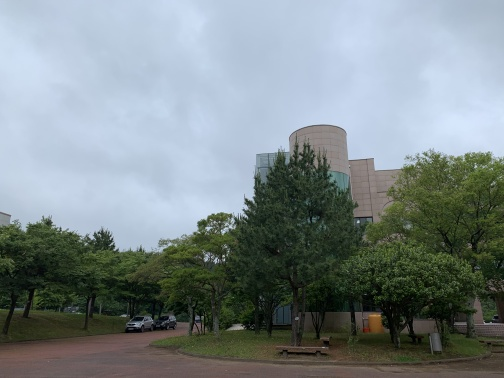Joint Experimental Labs: (254, 114, 406, 226)
